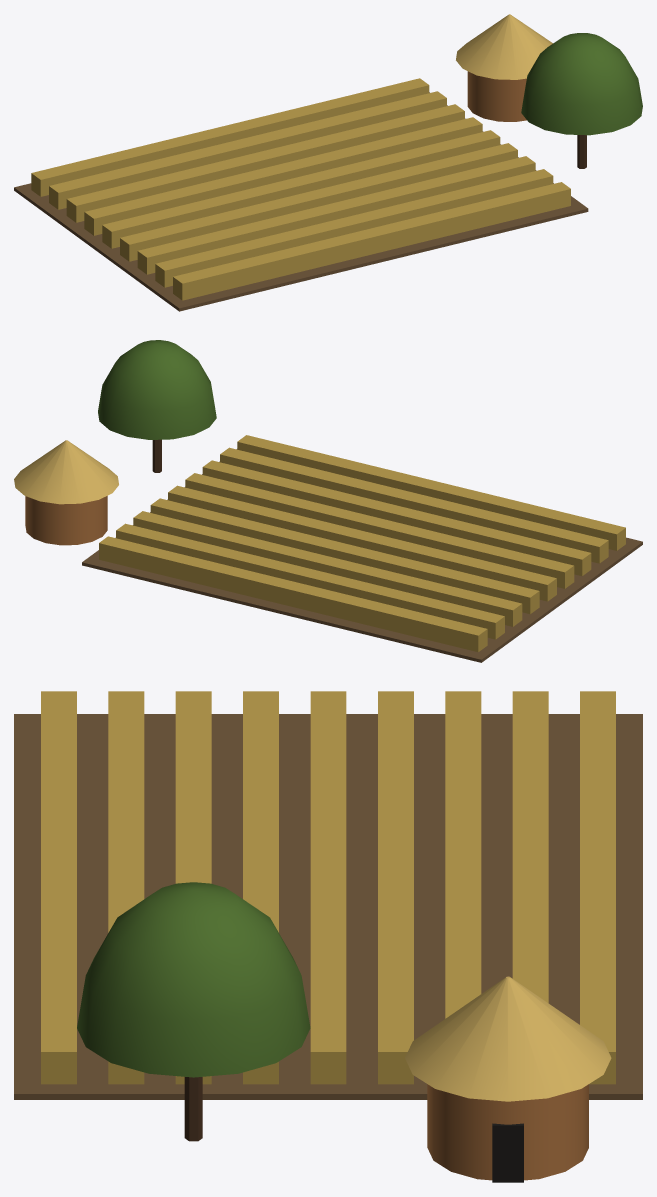
File: farm.glb
3 renders of one model, top to bottom at view 1: azimuth 30°, elevation 25°; view 2: azimuth 150°, elevation 25°; view 3: azimuth 270°, elevation 25°, orthographic. The views are drawn at different scales.
Visible parts, largest first — view 1: Farm; view 2: Farm; view 3: Farm.
Boxes of the visible parts, bbox=[...] form: Farm: bbox=[14, 14, 642, 311]; Farm: bbox=[14, 340, 642, 662]; Farm: bbox=[14, 691, 642, 1182].
Size of the model in its own units: 24.8 by 6.08 by 14.
